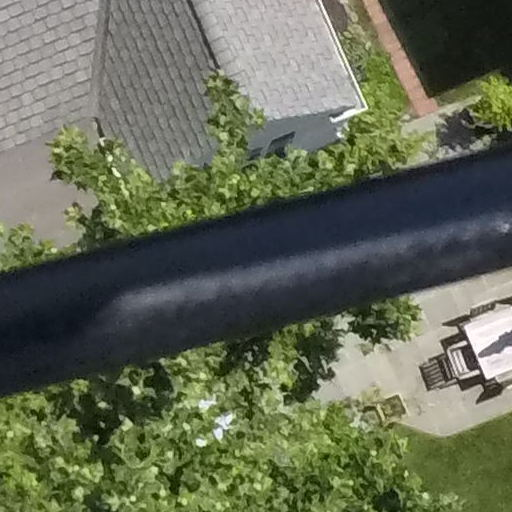flower pot: (372, 392, 408, 428), (453, 99, 482, 137), (475, 102, 504, 139)
